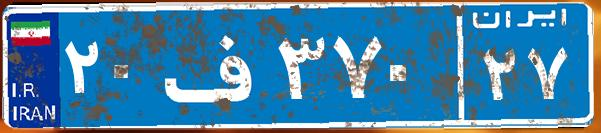0: (385, 28, 445, 110), (110, 28, 158, 105)
2: (57, 26, 110, 107), (475, 38, 525, 113)
3: (273, 28, 330, 110)
7: (330, 28, 385, 110), (525, 38, 570, 115)
ف: (158, 15, 273, 115)
